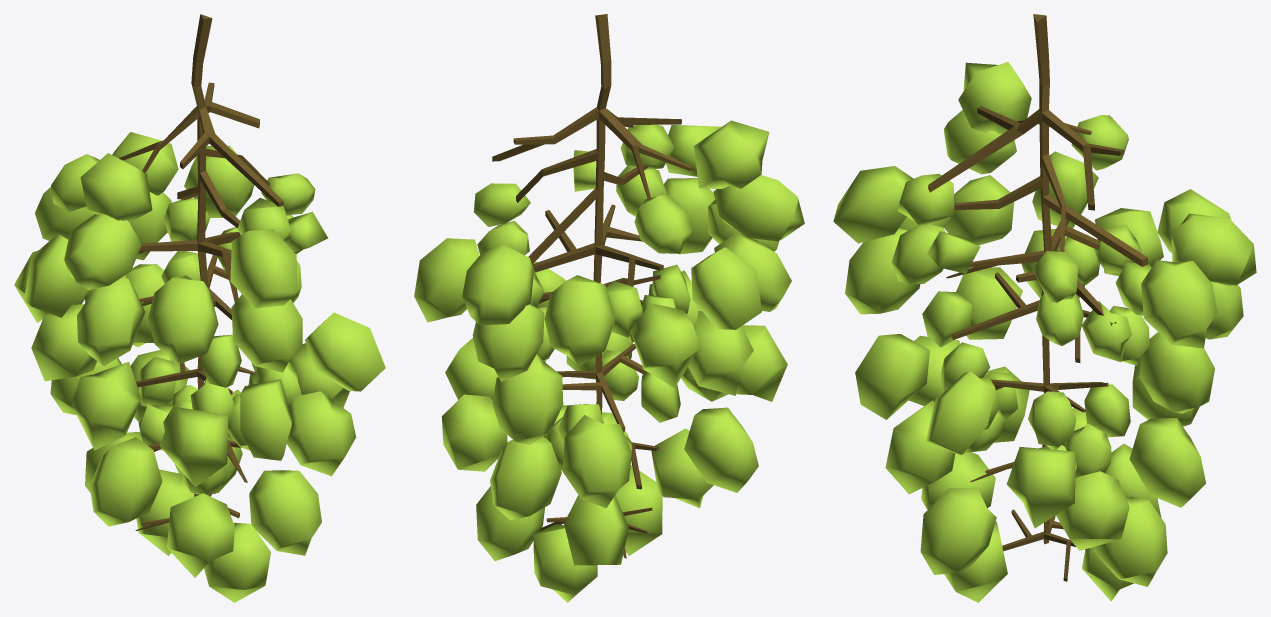
File: 3D_Grappe_03.fbx
3 renders of one model, left to right at view 1: azimuth 30°, elevation 25°; view 2: azimuth 150°, elevation 25°; view 3: azimuth 270°, elevation 25°, orthographic. The views are drawn at different scales.
Parts seen in each view (by area): view 1: SM_Grappe3_LP.002; view 2: SM_Grappe3_LP.002; view 3: SM_Grappe3_LP.002.
Part boxes in pixels (box(x1,y1,x2,y2)): SM_Grappe3_LP.002: box(14, 14, 385, 602); SM_Grappe3_LP.002: box(414, 14, 804, 602); SM_Grappe3_LP.002: box(833, 14, 1256, 602).
Bounding box in the file's own units: 0.0948 × 0.1628 × 0.1064.
